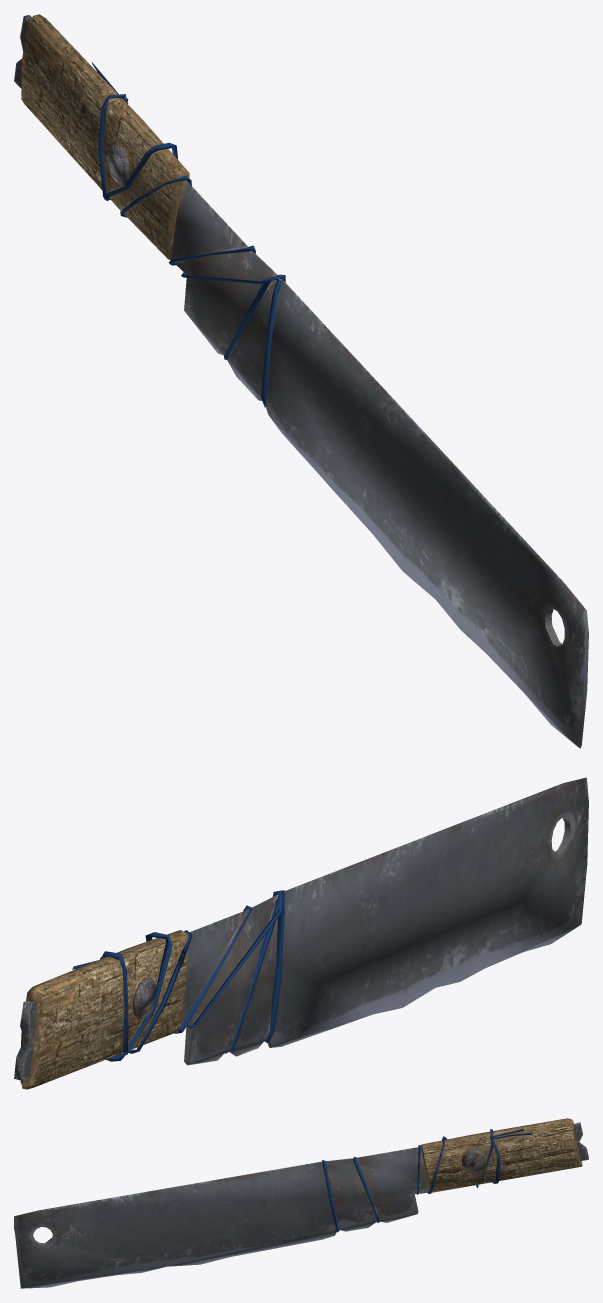
File: machete.worldmodel.glb
The picture shows the model from 3 angles, top to bottom: view 1: azimuth 30°, elevation 25°; view 2: azimuth 150°, elevation 25°; view 3: azimuth 270°, elevation 25°; orthographic projection. The views are drawn at different scales.
Parts seen in each view (by area): view 1: w_melee_set_wp_5_LOD0; view 2: w_melee_set_wp_5_LOD0; view 3: w_melee_set_wp_5_LOD0.
Boxes of the visible parts, box(x1,y1,x2,y2) form: w_melee_set_wp_5_LOD0: box(14, 14, 588, 748); w_melee_set_wp_5_LOD0: box(14, 777, 588, 1089); w_melee_set_wp_5_LOD0: box(14, 1118, 588, 1288).
Bounding box in the file's own units: 0.0204 × 0.1799 × 0.5513.
Materials: 1 (1 with a texture image).
